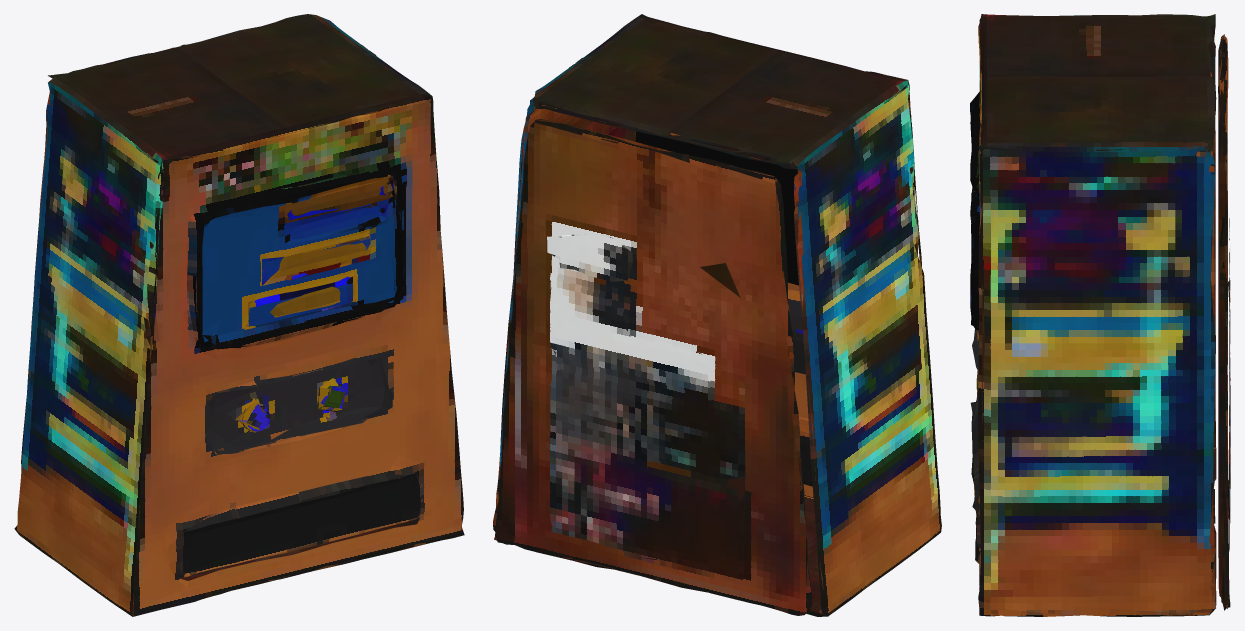
The model's file is Arcade_RelicStack_QuadRetro.glb.
3 renders of one model, left to right at view 1: azimuth 30°, elevation 25°; view 2: azimuth 150°, elevation 25°; view 3: azimuth 270°, elevation 25°, orthographic.
Visible parts, largest first — view 1: Arcade_RelicStack_QuadRemesh; view 2: Arcade_RelicStack_QuadRemesh; view 3: Arcade_RelicStack_QuadRemesh.
Boxes of the visible parts, x1,y1,x2,y2 form: Arcade_RelicStack_QuadRemesh: (14, 14, 464, 616); Arcade_RelicStack_QuadRemesh: (493, 14, 941, 616); Arcade_RelicStack_QuadRemesh: (970, 14, 1230, 616).
Bounding box in the file's own units: 1.57 × 2 × 1.04.
1 material, 1 textured.
